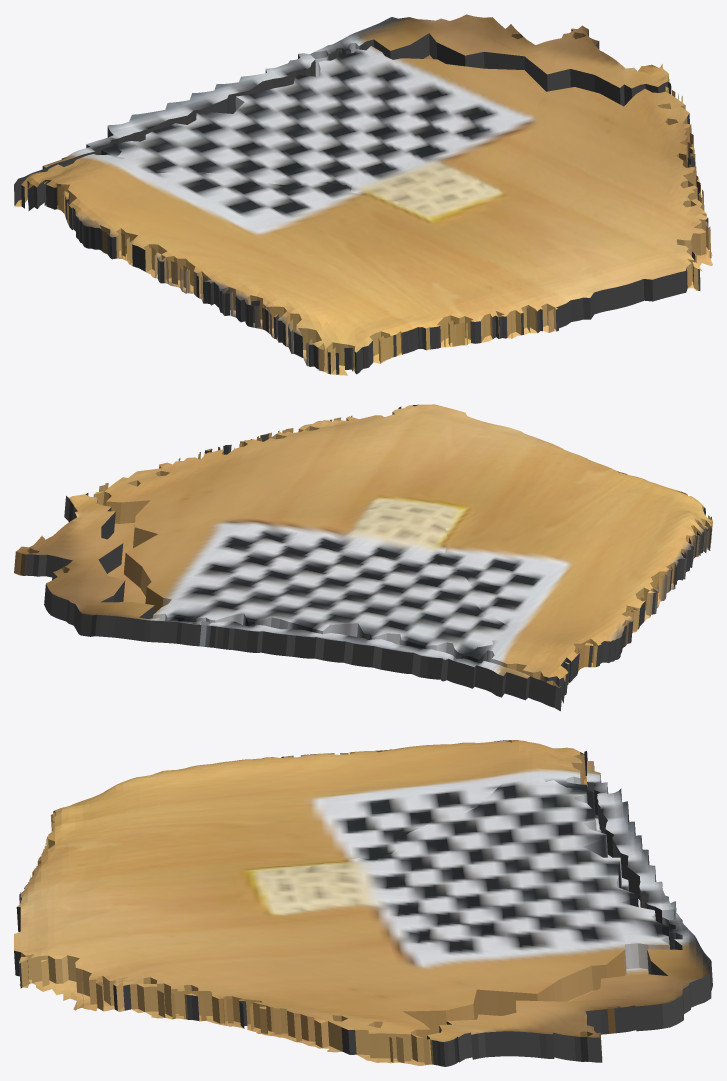
File: hori.fbx
3 renders of one model, top to bottom at view 1: azimuth 30°, elevation 25°; view 2: azimuth 150°, elevation 25°; view 3: azimuth 270°, elevation 25°, orthographic. The views are drawn at different scales.
Parts seen in each view (by area): view 1: hori; view 2: hori; view 3: hori.
Boxes of the visible parts, x1,y1,x2,y2 form: hori: (14,14,712,375); hori: (14,404,712,711); hori: (14,740,712,1066).
Size of the model in its own units: 53.31 by 4.93 by 51.23.
1 material, 1 textured.
